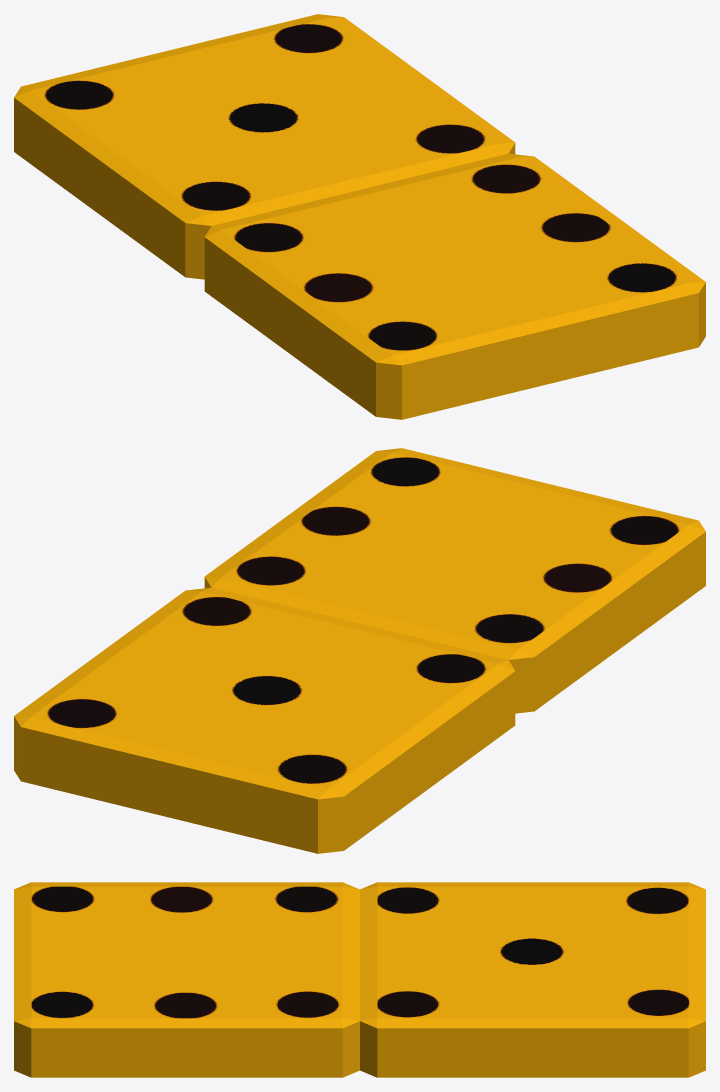
The model's file is domino_5.glb.
3 views of the same model, one above another, from view 1: azimuth 30°, elevation 25°; view 2: azimuth 150°, elevation 25°; view 3: azimuth 270°, elevation 25° (orthographic). The views are drawn at different scales.
Visible parts, largest first — view 1: Dom.303_low_2.002; view 2: Dom.303_low_2.002; view 3: Dom.303_low_2.002.
Part boxes in pixels (box(x1,y1,x2,y2)): Dom.303_low_2.002: box(14, 14, 705, 419); Dom.303_low_2.002: box(14, 448, 705, 853); Dom.303_low_2.002: box(14, 882, 705, 1077).
Size of the model in its own units: 2 by 0.35 by 4.
Materials: 2 (2 with a texture image).
